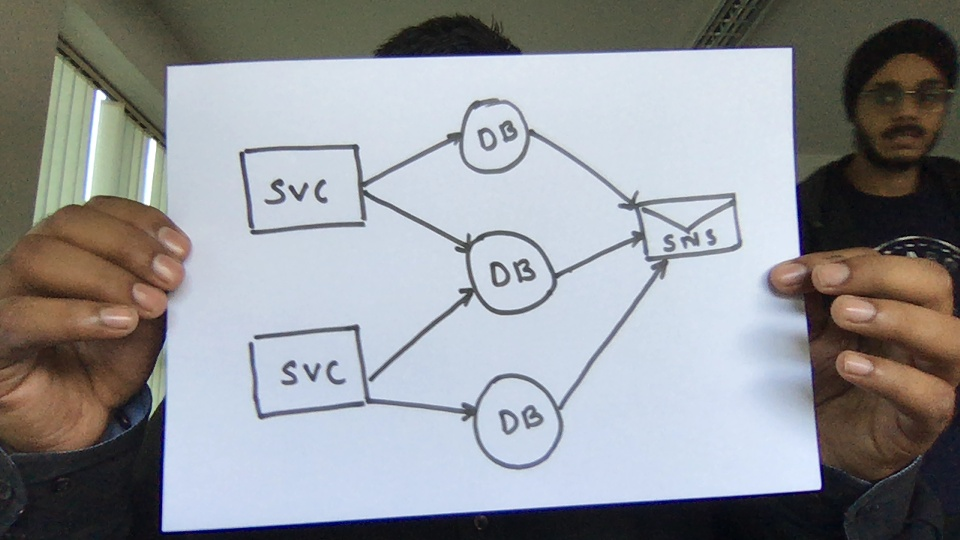db: (470, 367, 572, 472), (462, 223, 561, 320), (450, 93, 538, 184)
ec2: (232, 139, 373, 238), (240, 322, 381, 421)
sns: (627, 188, 760, 274)
